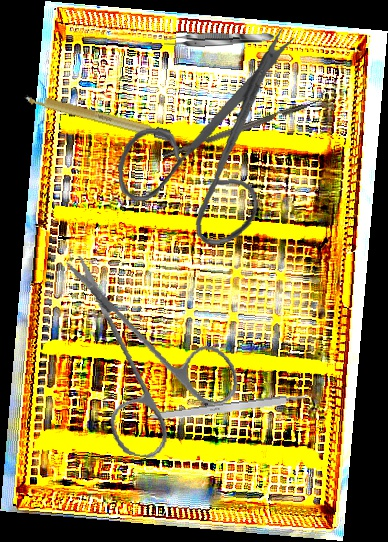Chopper: (159, 89, 329, 159)
Iris Scissors: (35, 253, 256, 472), (107, 24, 312, 253)
Scalpel Handle: (21, 90, 173, 142), (144, 392, 311, 425)
Tissue Forceps: (163, 30, 275, 49)
